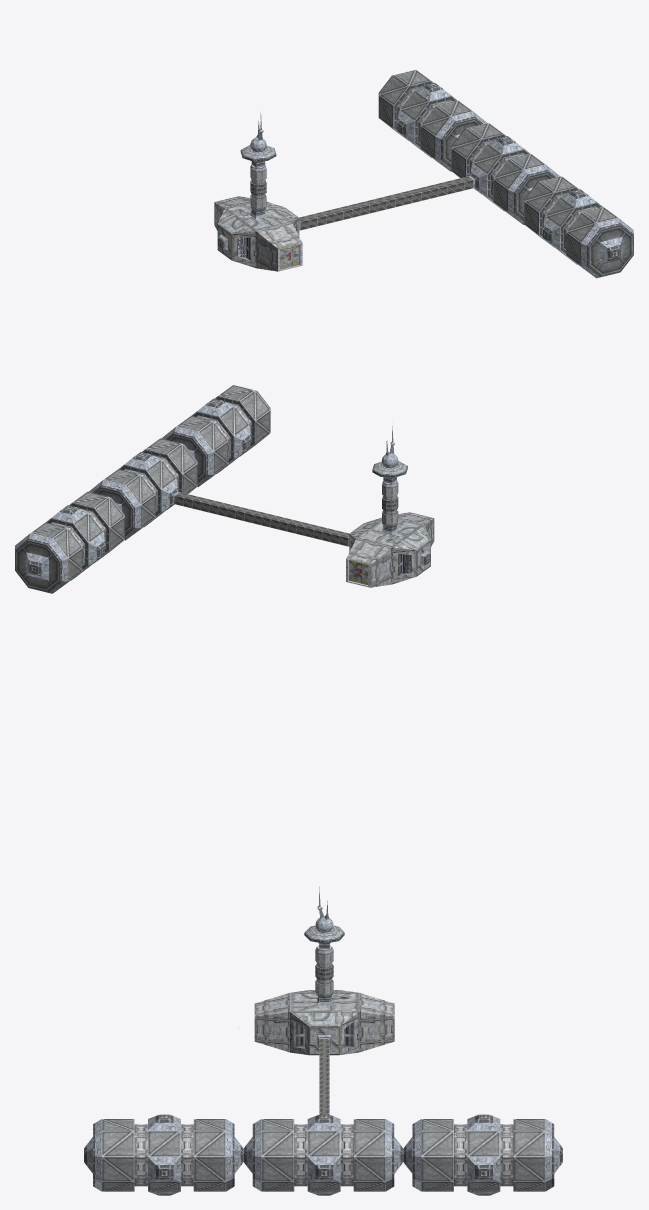
Rendered from Factory.obj.
The picture shows the model from 3 angles, top to bottom: view 1: azimuth 30°, elevation 25°; view 2: azimuth 150°, elevation 25°; view 3: azimuth 270°, elevation 25°; orthographic projection. The views are drawn at different scales.
Parts seen in each view (by area): view 1: manf_dock; view 2: manf_dock; view 3: manf_dock.
Part boxes in pixels (<box>): manf_dock: <box>214,69,633,278</box>; manf_dock: <box>15,385,434,593</box>; manf_dock: <box>84,886,562,1195</box>.
Bounding box in the file's own units: 1049 × 494 × 978.
13 materials, 13 textured.
